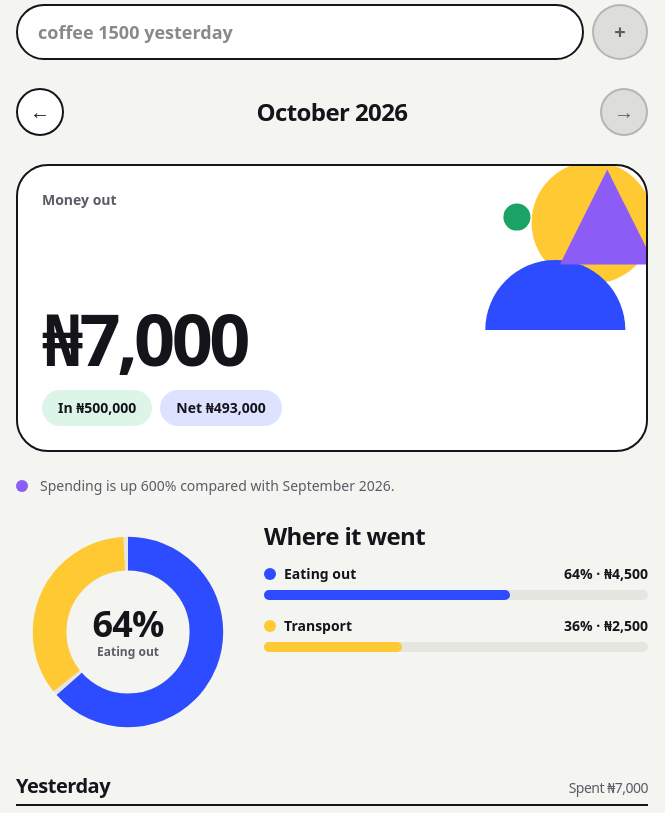
it: Home: list › shows a newly added entry straight away
Type "suya 1500" into the field named "Quick add" at (300, 32), box left=16, top=4, right=584, bottom=60
Then press Enter
(page scrolled)
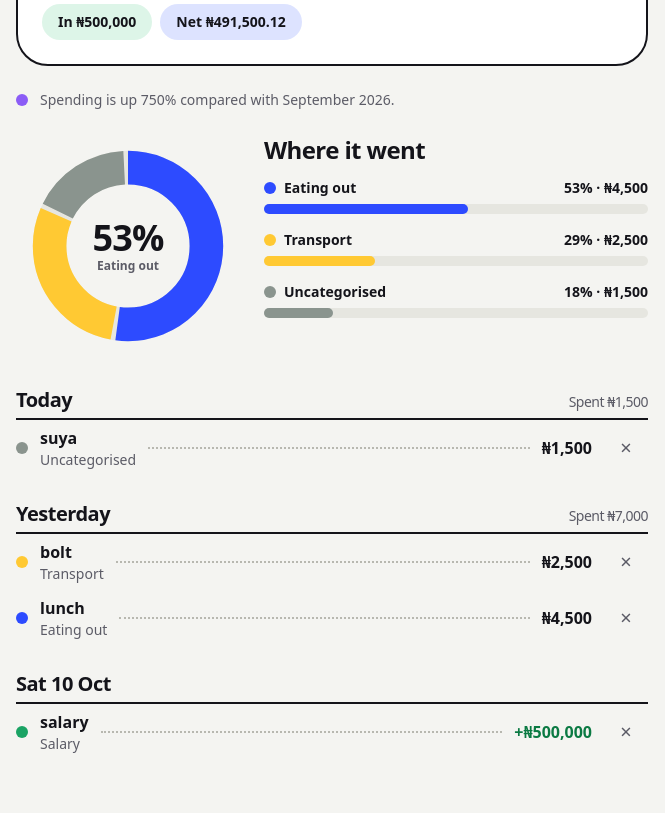
Now the text "suya" is shown, box left=40, top=427, right=77, bottom=449
Now the text "Today" is shown, box left=16, top=386, right=72, bottom=414
